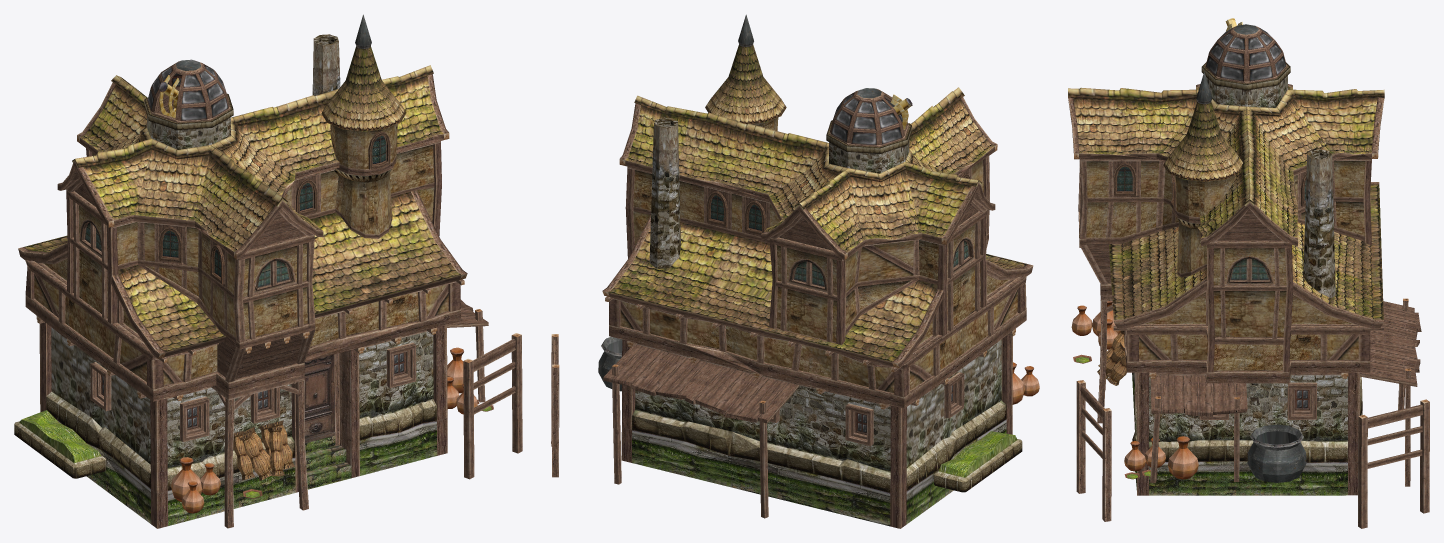
File: AlchmyLab.obj
The picture shows the model from 3 angles, left to right: view 1: azimuth 30°, elevation 25°; view 2: azimuth 150°, elevation 25°; view 3: azimuth 270°, elevation 25°; orthographic projection. The views are drawn at different scales.
Visible parts, largest first — view 1: Alchemy_Labs; view 2: Alchemy_Labs; view 3: Alchemy_Labs.
Boxes of the visible parts, box(x1,y1,x2,y2) form: Alchemy_Labs: box(14, 14, 522, 528); Alchemy_Labs: box(551, 14, 1039, 528); Alchemy_Labs: box(1068, 18, 1429, 528).
Bounding box in the file's own units: 525 × 518 × 420.
Materials: 3 (3 with a texture image).
